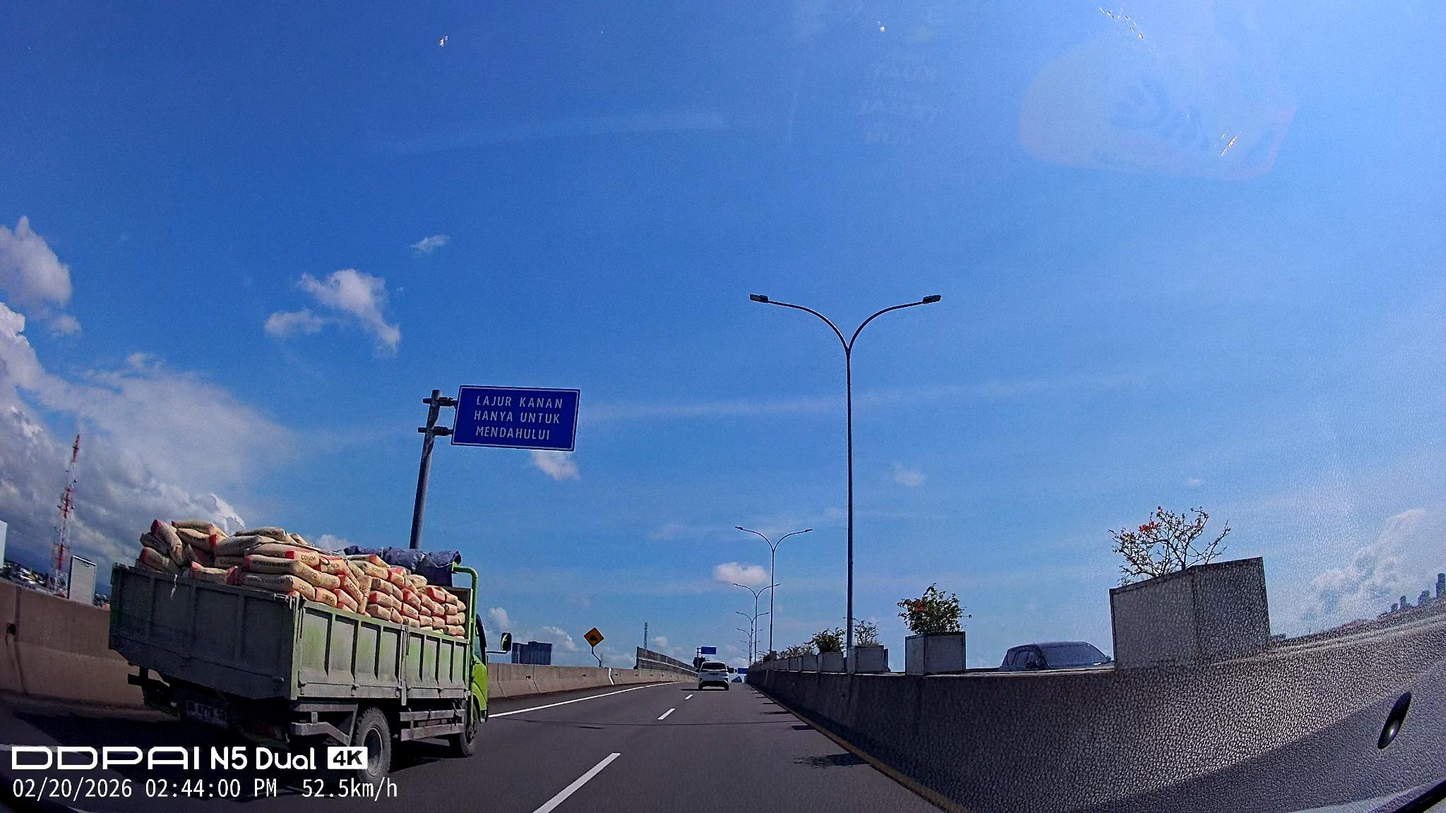rambu_teks: (451, 384, 581, 453)
